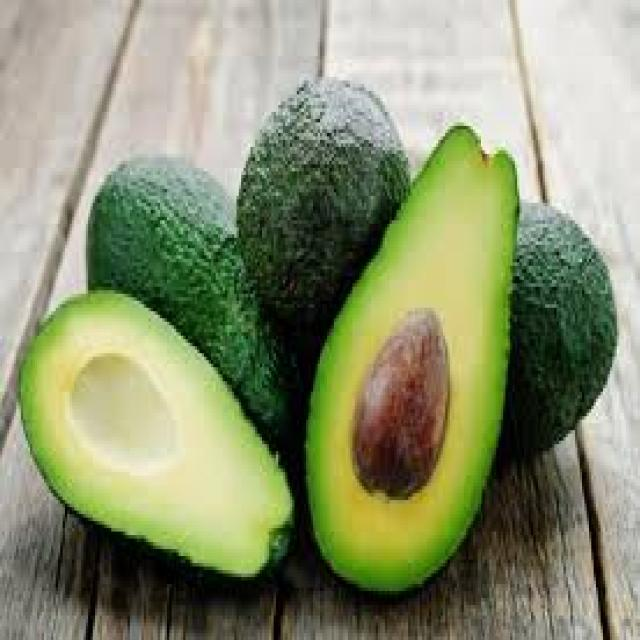avocado: (306, 105, 561, 607), (22, 256, 302, 624), (76, 129, 282, 399), (226, 46, 421, 283), (491, 189, 640, 447)
